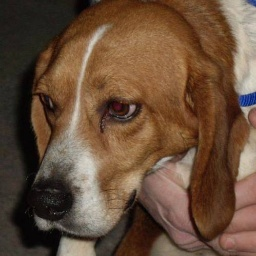dog: (17, 2, 250, 245)
